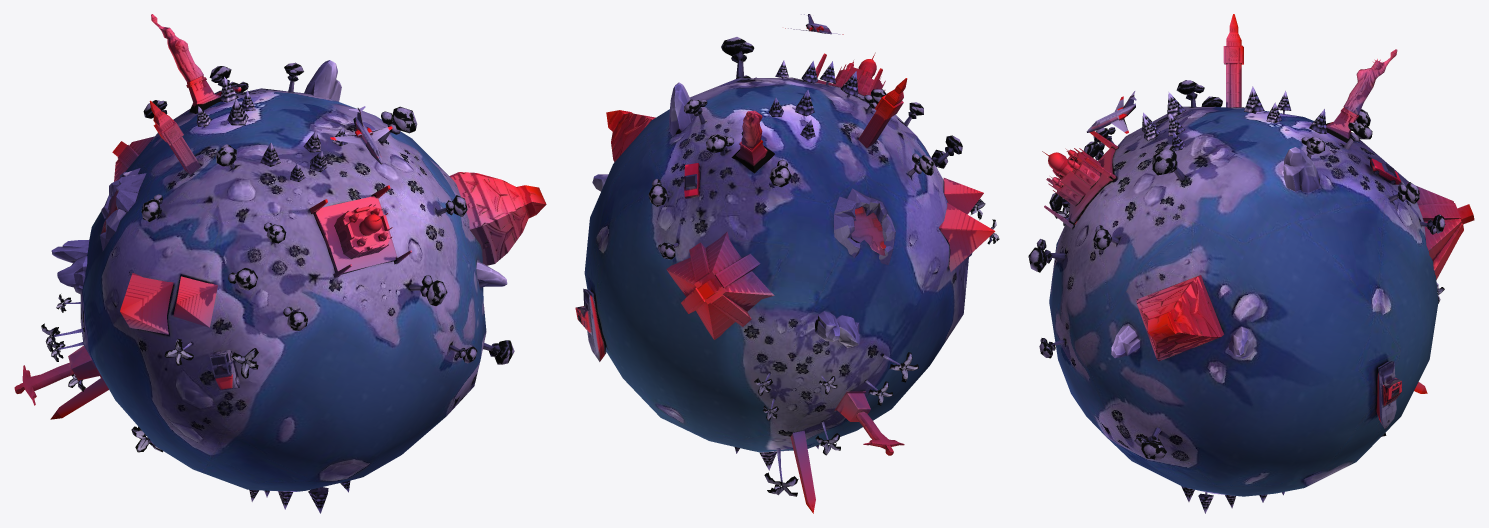
The model's file is CarmenMobileV2.fbx.
3 renders of one model, left to right at view 1: azimuth 30°, elevation 25°; view 2: azimuth 150°, elevation 25°; view 3: azimuth 270°, elevation 25°, orthographic. The views are drawn at different scales.
Parts seen in each view (by area): view 1: globo, Box002, CASAJAPA, taj, Rock_A_01.007, veiculos, Box001, cristo, mountains.001, arvorecomum, mountains, Pyramid001 (+1 smaller); view 2: globo, Pyramid001, Box002, Rock_A_01.007, mountains.001, veiculos, cristo, Box001, CASAJAPA, taj, mountains, Shape001 (+2 smaller); view 3: globo, CASAJAPA, taj, Rock_A_01.007, veiculos, Pyramid001, Box001, Box002, arvorecomum, arvorecomum029, arvorecomum022.
Part boxes in pixels (x1,y1,x2,y2): globo: (80, 88, 486, 491); Box002: (120, 100, 217, 334); CASAJAPA: (449, 172, 546, 265); taj: (309, 185, 411, 277); Rock_A_01.007: (51, 60, 507, 294); veiculos: (209, 87, 392, 390); Box001: (151, 14, 220, 113); cristo: (14, 345, 101, 405); mountains.001: (100, 168, 146, 251); arvorecomum: (378, 106, 417, 143); mountains: (50, 378, 108, 419); Pyramid001: (112, 136, 154, 181); globo: (584, 77, 968, 452); Pyramid001: (666, 231, 774, 339); Box002: (858, 78, 995, 272); Rock_A_01.007: (592, 82, 860, 347); mountains.001: (834, 188, 895, 264); veiculos: (575, 14, 972, 361); cristo: (834, 391, 904, 455); Box001: (731, 110, 774, 173); CASAJAPA: (606, 110, 655, 161); taj: (815, 52, 885, 95); mountains: (790, 430, 815, 513); Shape001: (851, 206, 885, 255); globo: (1049, 106, 1438, 496); CASAJAPA: (1136, 275, 1223, 361); taj: (1042, 131, 1118, 229); Rock_A_01.007: (1111, 147, 1319, 358); veiculos: (1086, 91, 1401, 429); Pyramid001: (1407, 182, 1474, 279); Box001: (1326, 49, 1397, 142); Box002: (1223, 14, 1243, 107); arvorecomum: (1152, 144, 1186, 181); arvorecomum029: (1134, 427, 1166, 460); arvorecomum022: (1028, 239, 1066, 272).
Size of the model in its own units: 1245 by 1269 by 1188.
14 materials, 14 textured.
